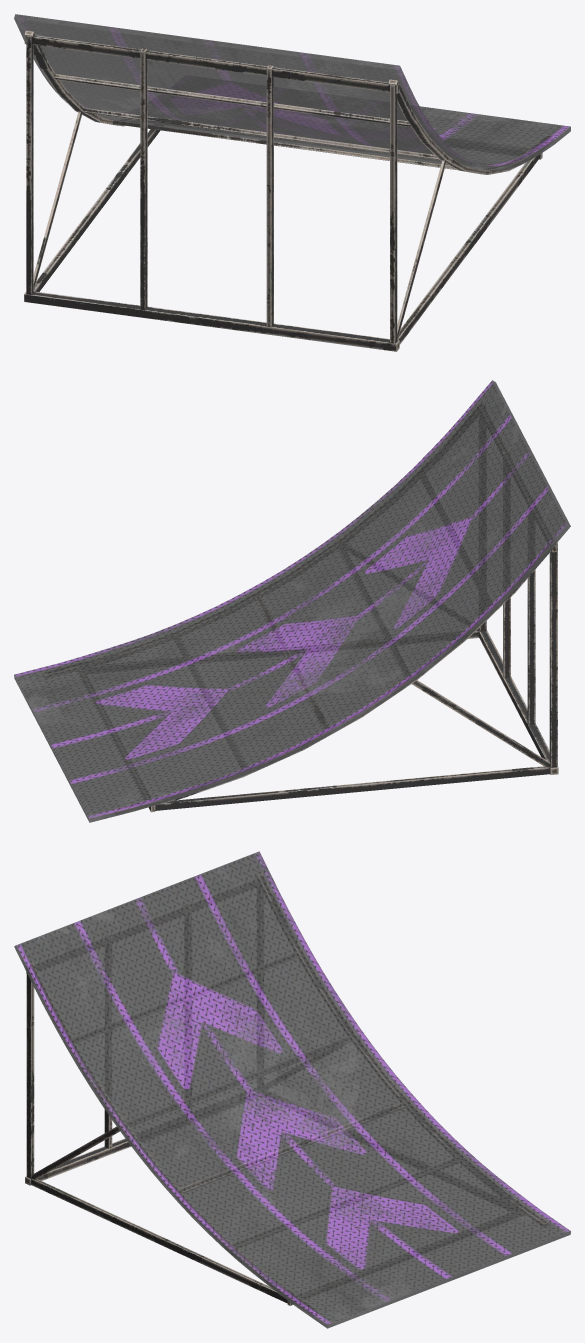
Rendered from ramp-jump.glb.
3 views of the same model, one above another, from view 1: azimuth 30°, elevation 25°; view 2: azimuth 150°, elevation 25°; view 3: azimuth 270°, elevation 25° (orthographic). The views are drawn at different scales.
Parts seen in each view (by area): view 1: Floor_Material.025_0, Frame_Material.026_0; view 2: Floor_Material.025_0, Frame_Material.026_0; view 3: Floor_Material.025_0, Frame_Material.026_0.
Boxes of the visible parts, box(x1,y1,x2,y2) form: Floor_Material.025_0: box(14, 14, 570, 170); Frame_Material.026_0: box(24, 30, 554, 351); Floor_Material.025_0: box(14, 380, 570, 822); Frame_Material.026_0: box(43, 402, 558, 813); Floor_Material.025_0: box(14, 851, 570, 1328); Frame_Material.026_0: box(25, 873, 548, 1314).
Bounding box in the file's own units: 21.42 × 10.01 × 21.09.
2 materials, 2 textured.
